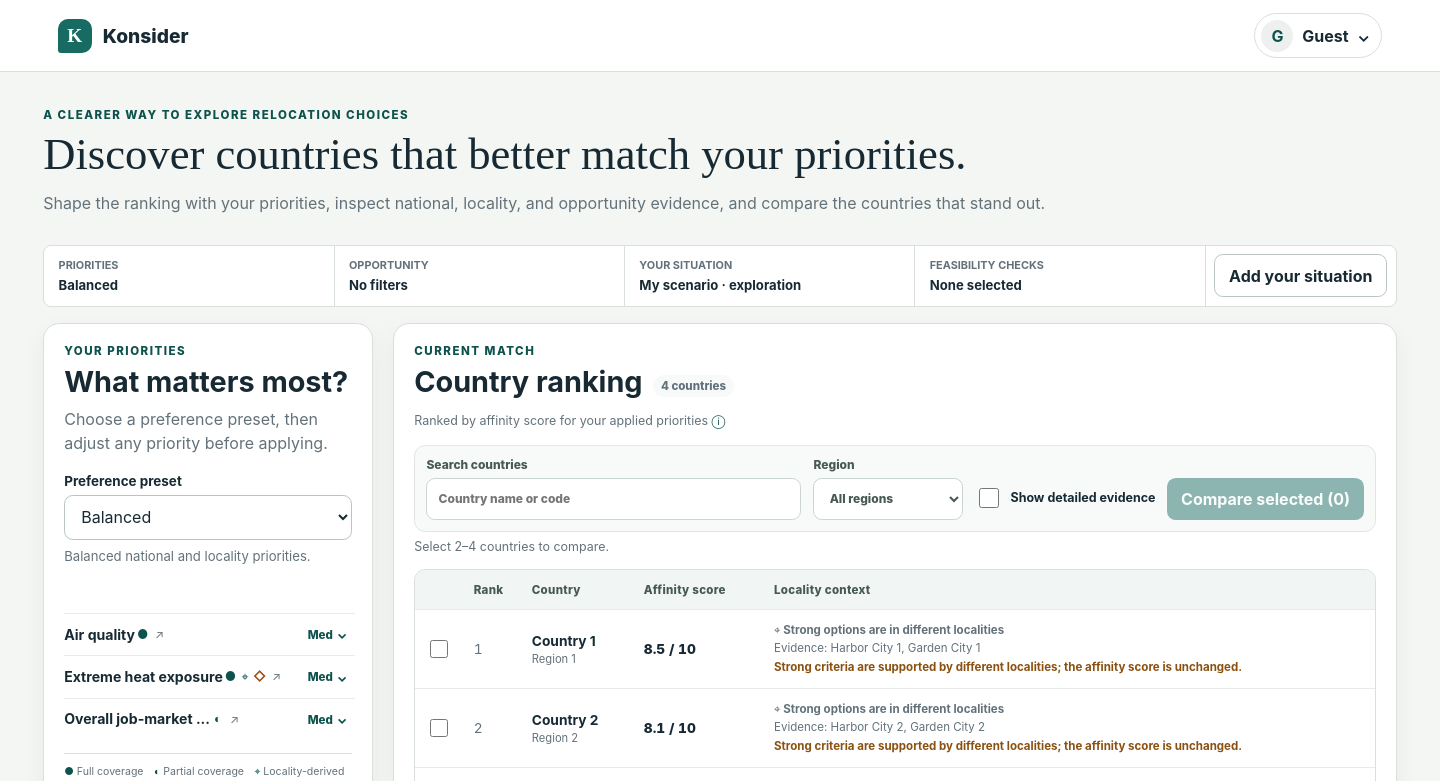
Test: comparison shows aggregates, locality provenance, status, and unavailable cells
Expected: the heading "Country ranking" is shown, [414,365,642,398]
Click the checkbox named "Select Country": (439, 649) [430,640,448,658]
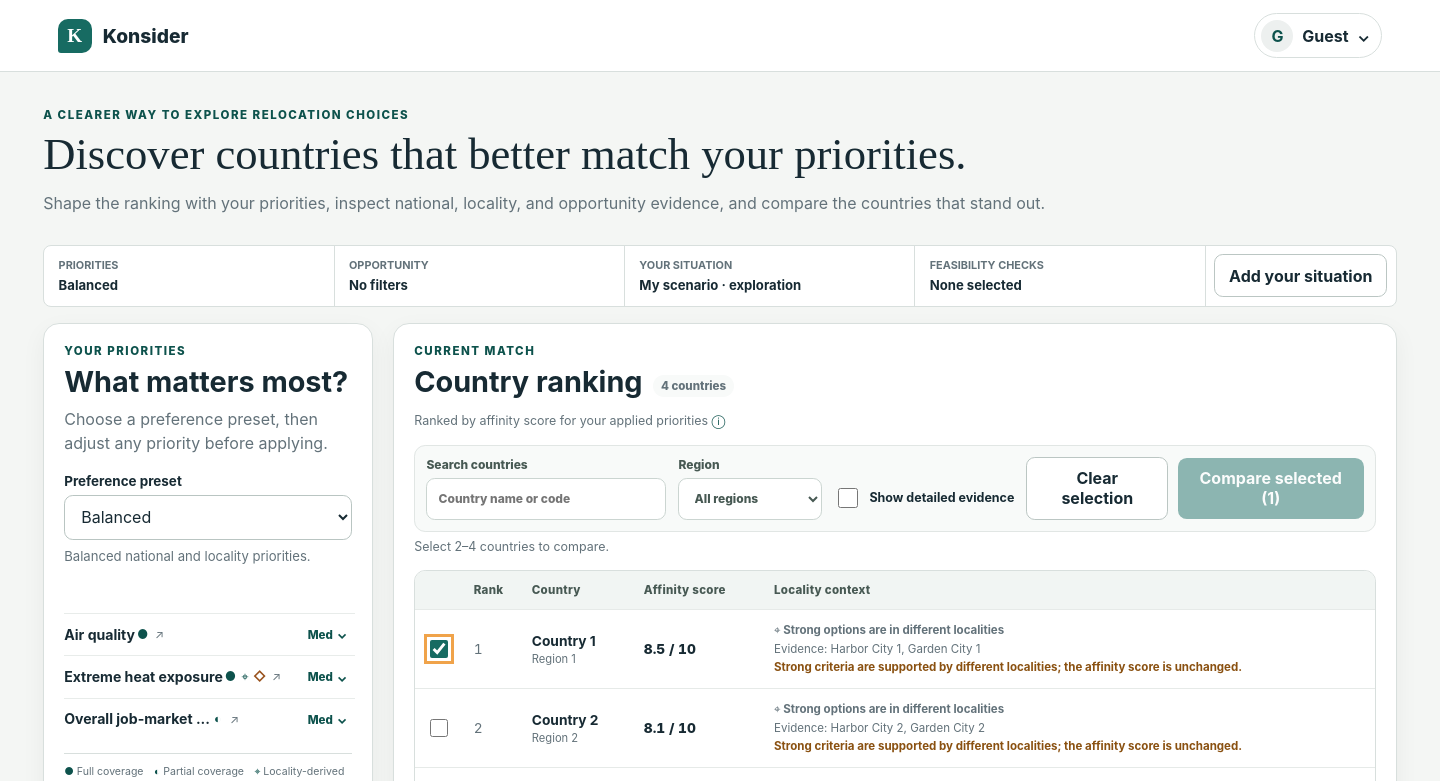
Click the checkbox named "Select Country": (439, 728) [430,719,448,737]
(page scrolled)
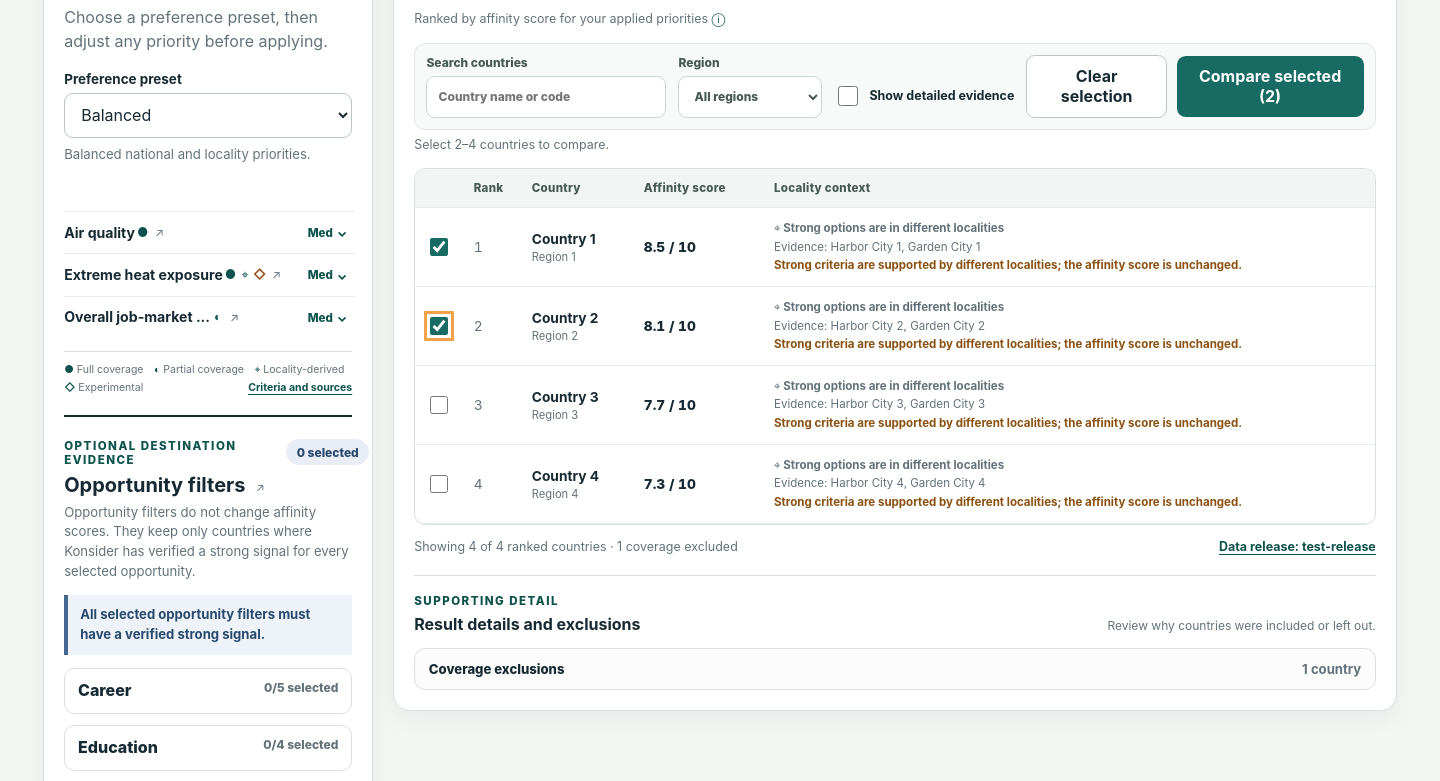
Click the checkbox named "Select Country": (439, 405) [430,396,448,414]
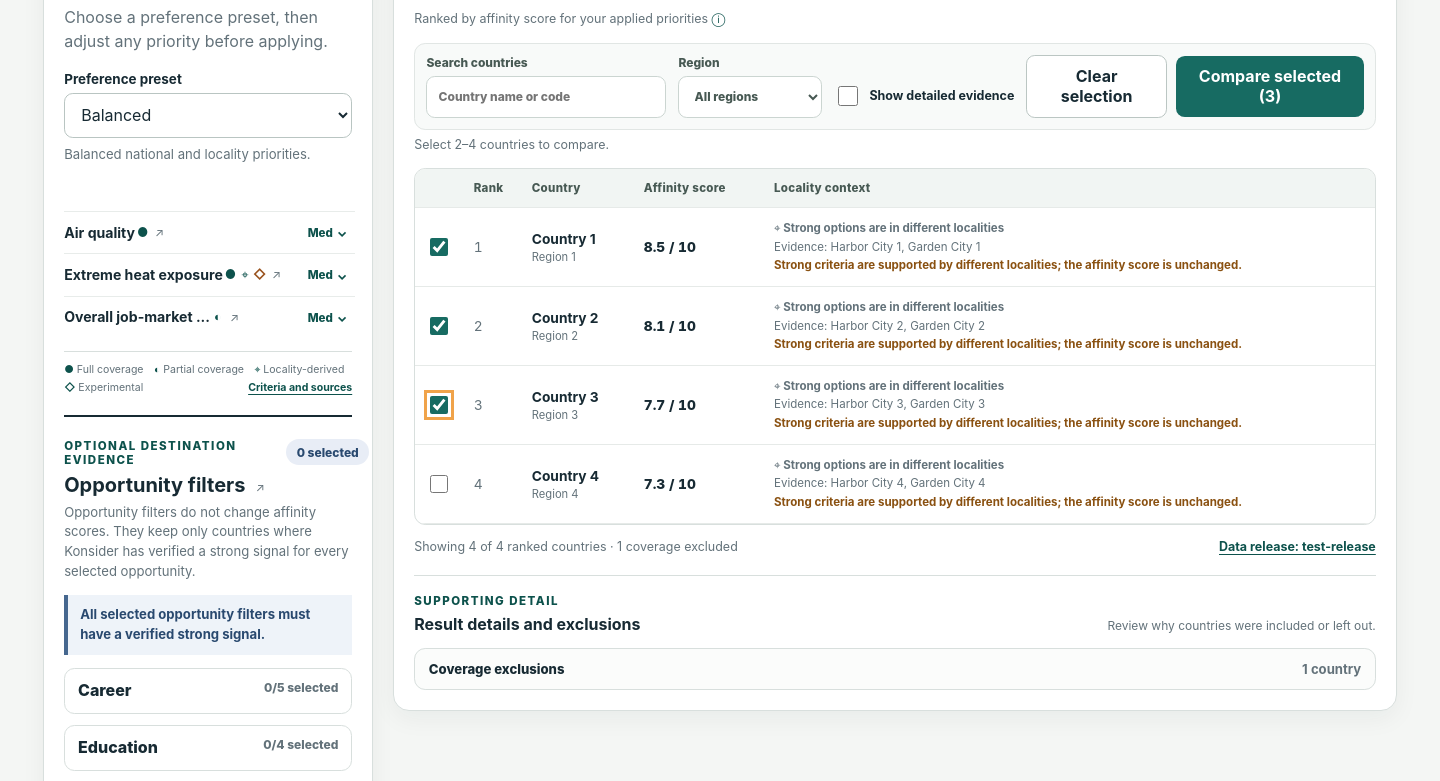
Click the checkbox named "Select Country": (439, 484) [430,475,448,493]
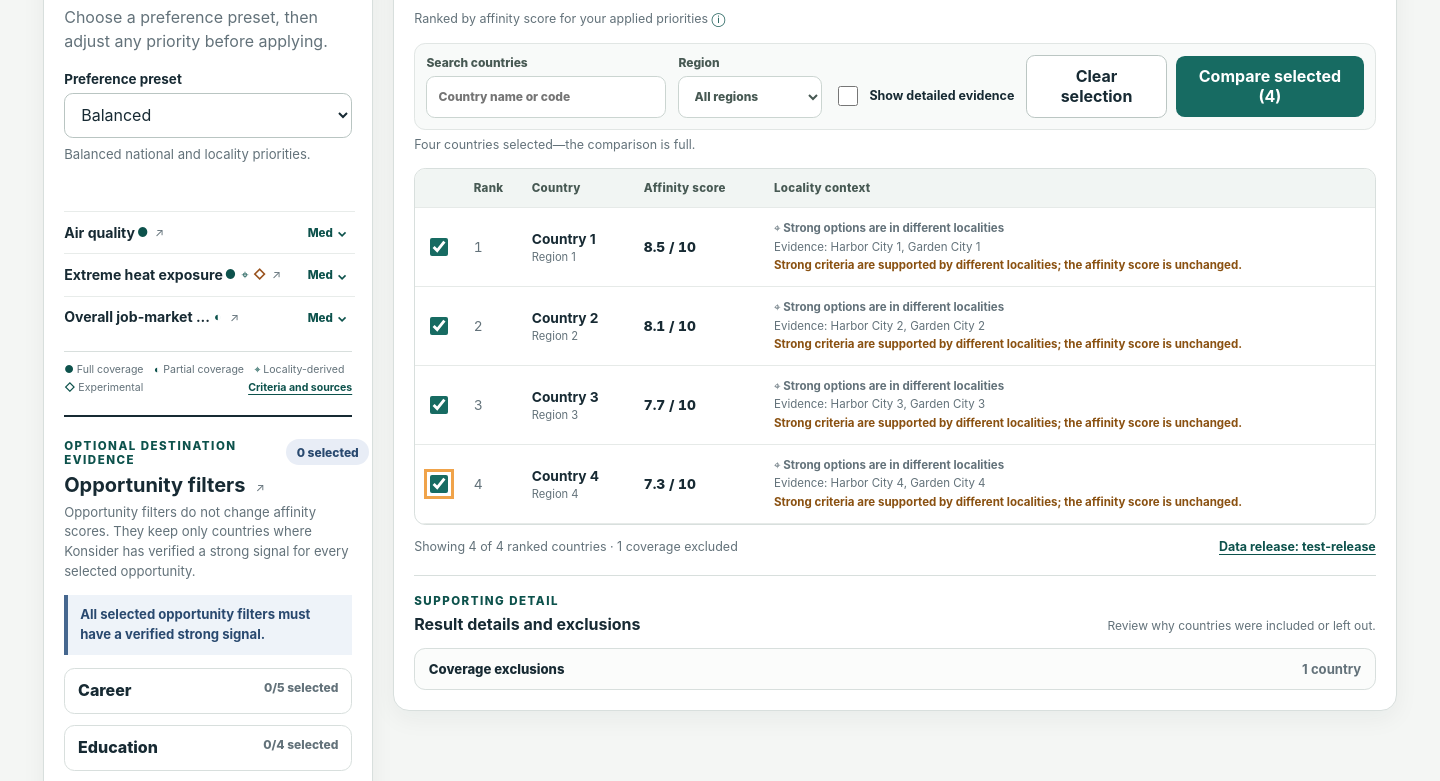
Click the button "Compare selected (4)": (1270, 86) [1176,56,1364,117]
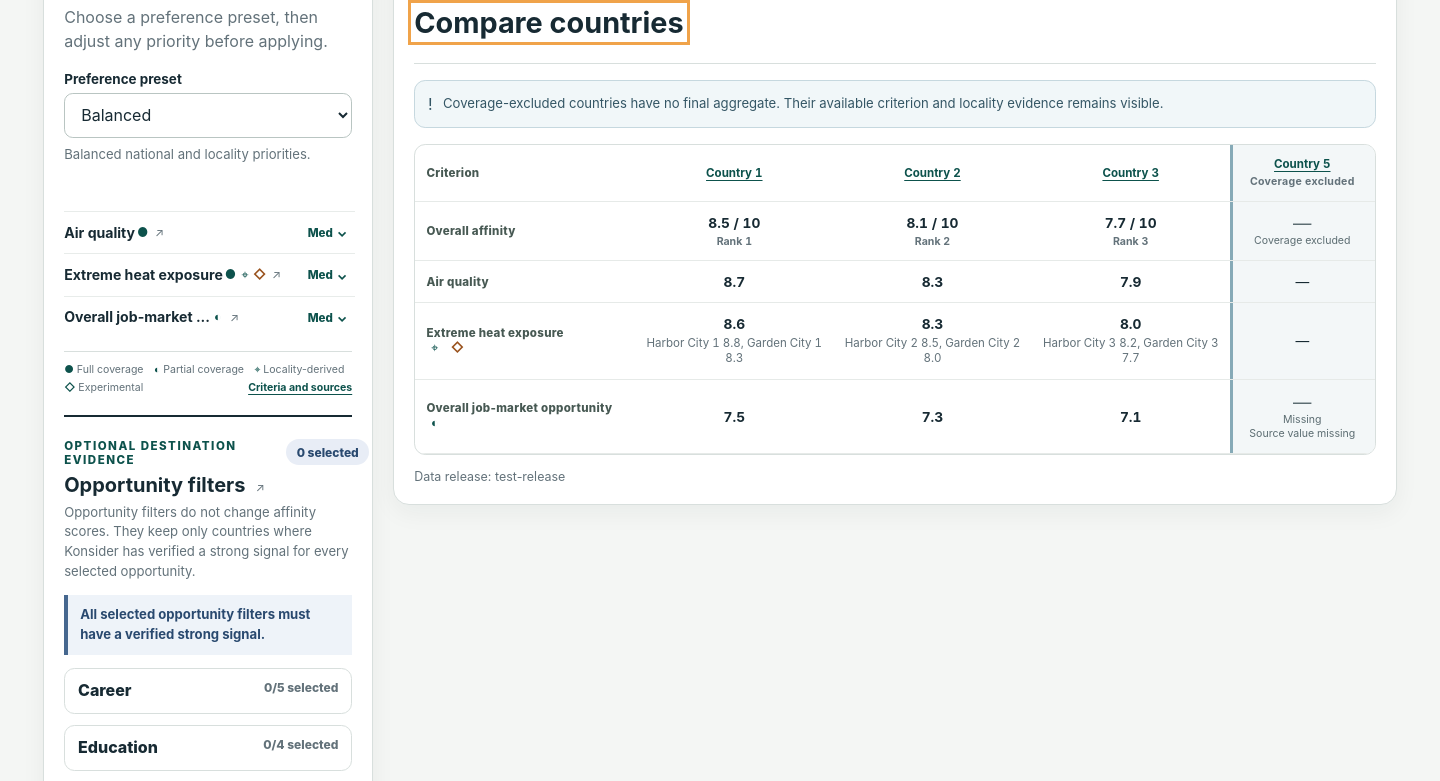
Expected: the heading "Compare countries" is shown, [414,6,684,39]
Expected: the 1st text "Coverage excluded" is shown, [1241,176,1364,188]
Expected: the text "Harbor City 1 8.8, Garden City 1 8.3" is shown, [646,336,822,367]
